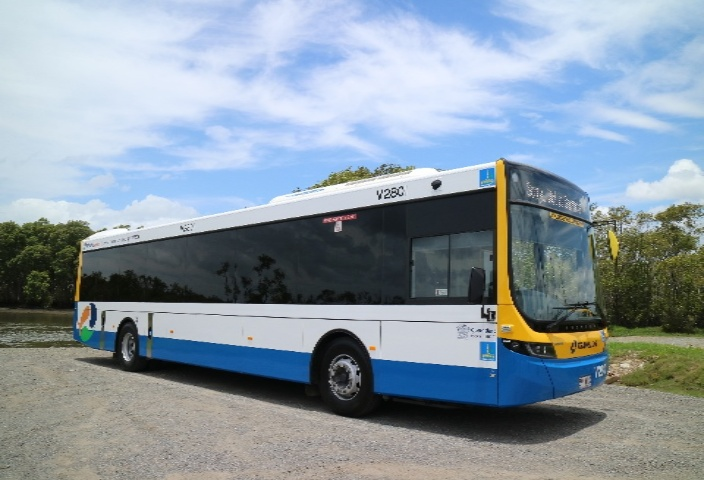bus: (71, 154, 627, 414)
